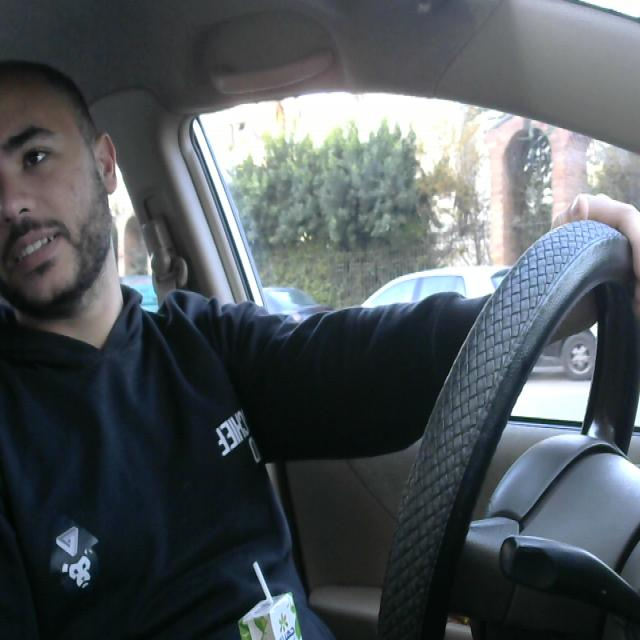drinking: (232, 556, 306, 640)
